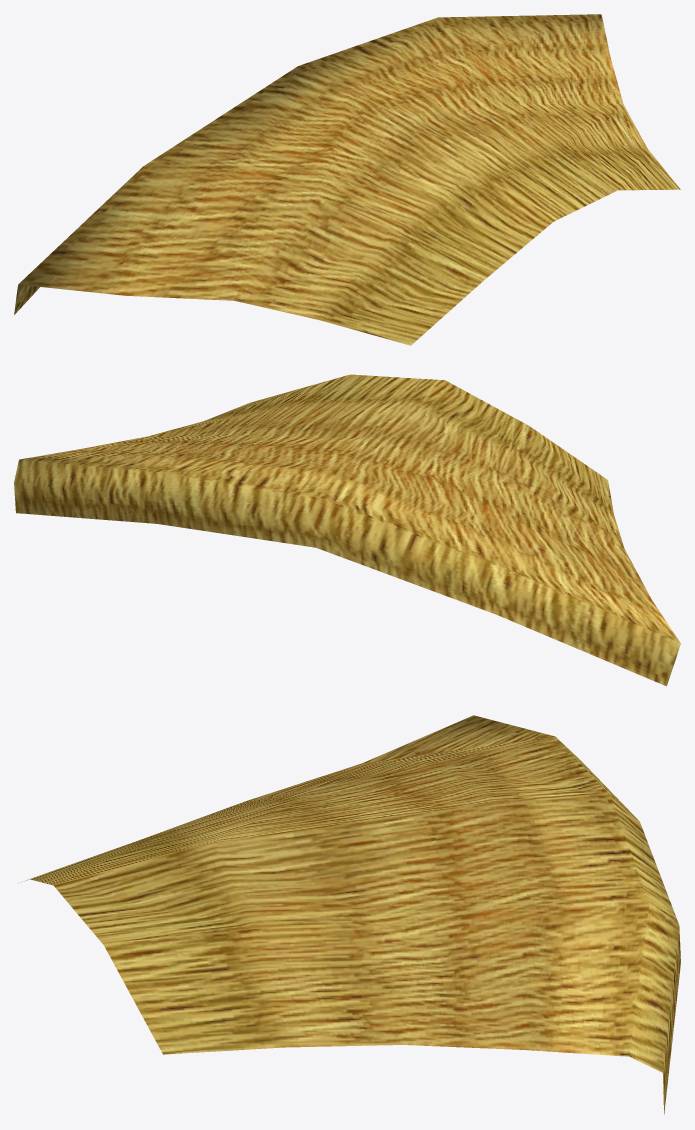
Rendered from HTOWN01_BAGROW2AWNING.fbx.
The picture shows the model from 3 angles, top to bottom: view 1: azimuth 30°, elevation 25°; view 2: azimuth 150°, elevation 25°; view 3: azimuth 270°, elevation 25°; orthographic projection. The views are drawn at different scales.
Parts seen in each view (by area): view 1: HTOWN01_BAGROW2AWNING; view 2: HTOWN01_BAGROW2AWNING; view 3: HTOWN01_BAGROW2AWNING.
Boxes of the visible parts, <box> form: HTOWN01_BAGROW2AWNING: <box>14,14,680,345</box>; HTOWN01_BAGROW2AWNING: <box>14,374,680,686</box>; HTOWN01_BAGROW2AWNING: <box>18,715,680,1114</box>.
Bounding box in the file's own units: 48058 × 10477 × 30012.
2 materials, 2 textured.
